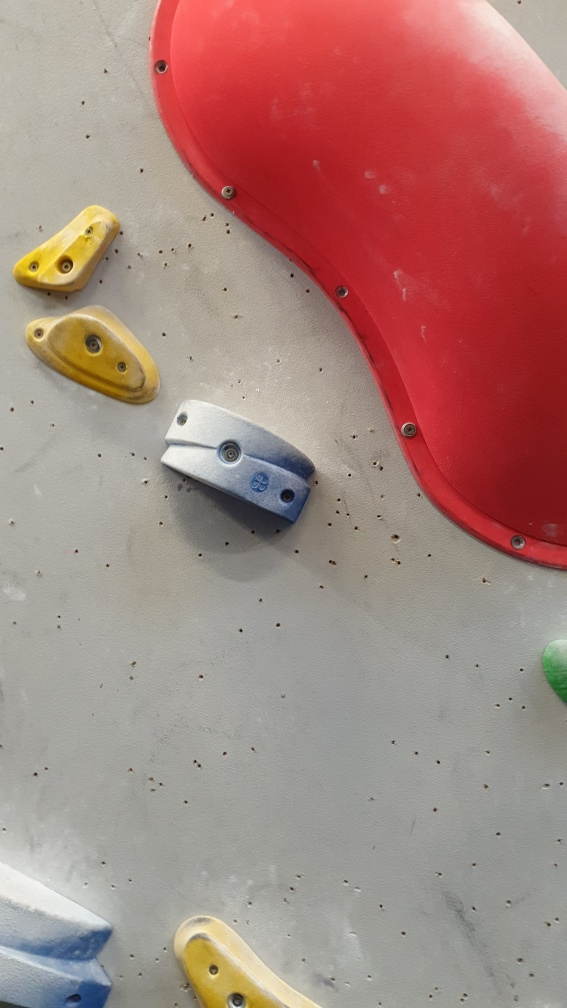Crimp: (45, 310, 150, 395), (176, 930, 290, 1004), (47, 209, 120, 292)
Pinch: (156, 393, 326, 531), (1, 857, 114, 1007)
